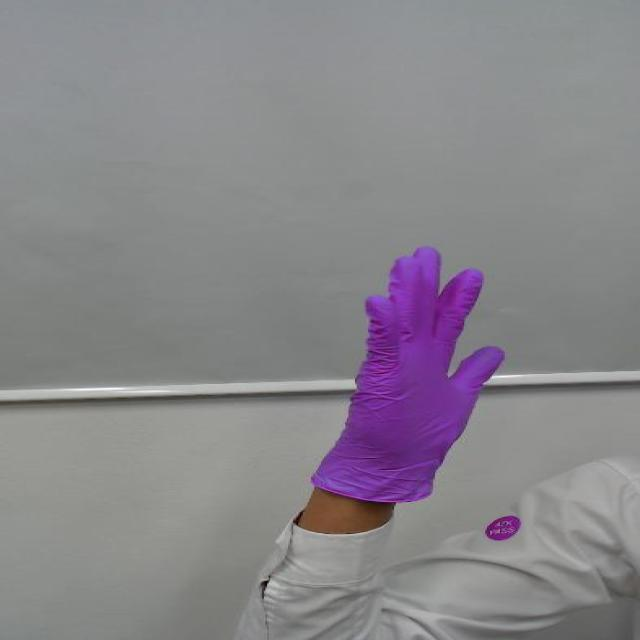gloved_hand: (326, 239, 524, 446)
